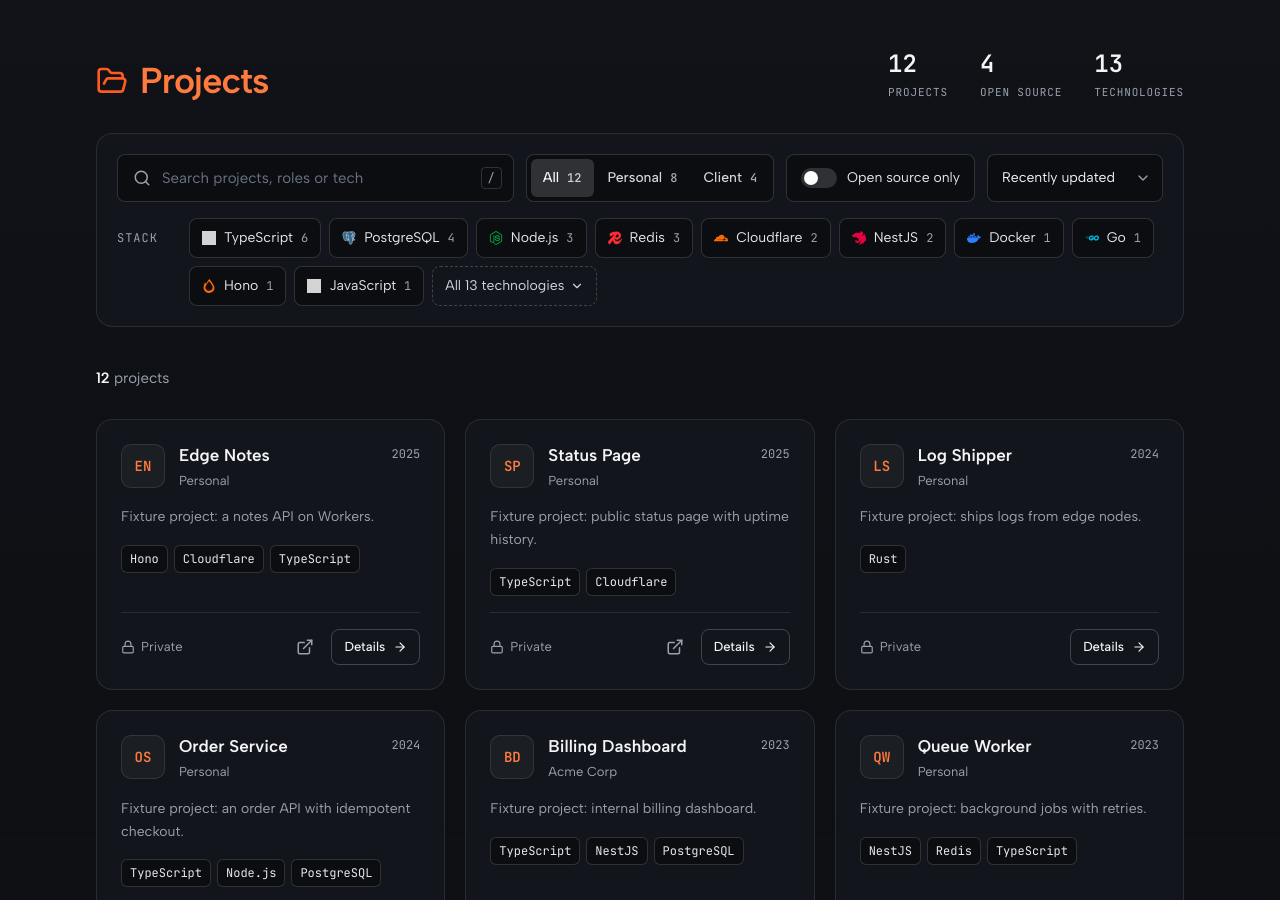
Test: ProjectsPage › opens project details and steps to the next project
What coordinates should you click on to do the following:
click the button "Details" below "Fixture project: a notes API on Workers."
I would click on:
 (376, 647)
Its box is x1=332 y1=629 x2=420 y2=665.
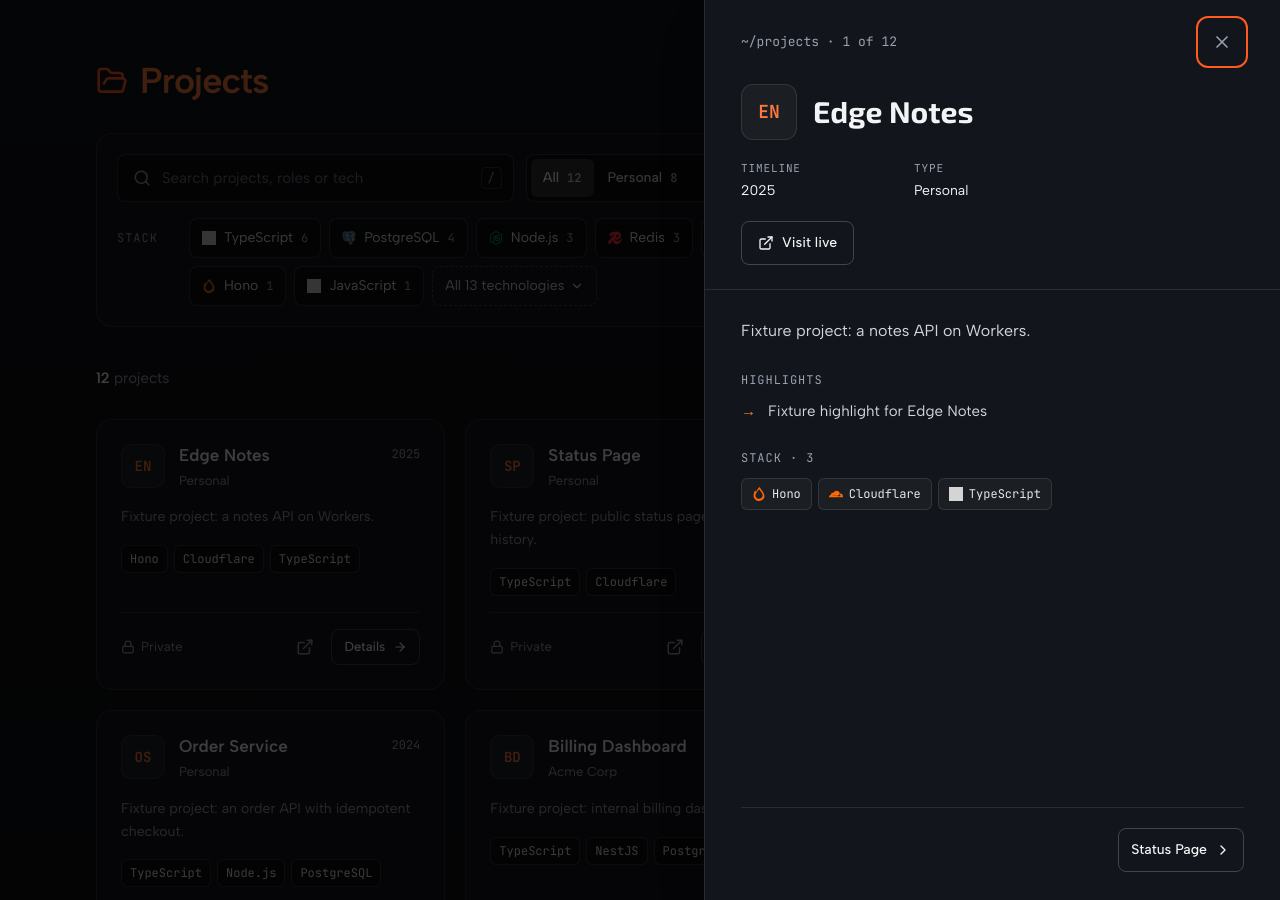
Expected: the heading "Edge Notes" is shown, x1=813 y1=93 x2=973 y2=131
Expected: the heading "Highlights" is shown, x1=741 y1=372 x2=823 y2=388
What coordinates should you click on to do the following:
click the button "Status Page"
I would click on:
 (1181, 850)
Its box is x1=1118 y1=828 x2=1244 y2=872.
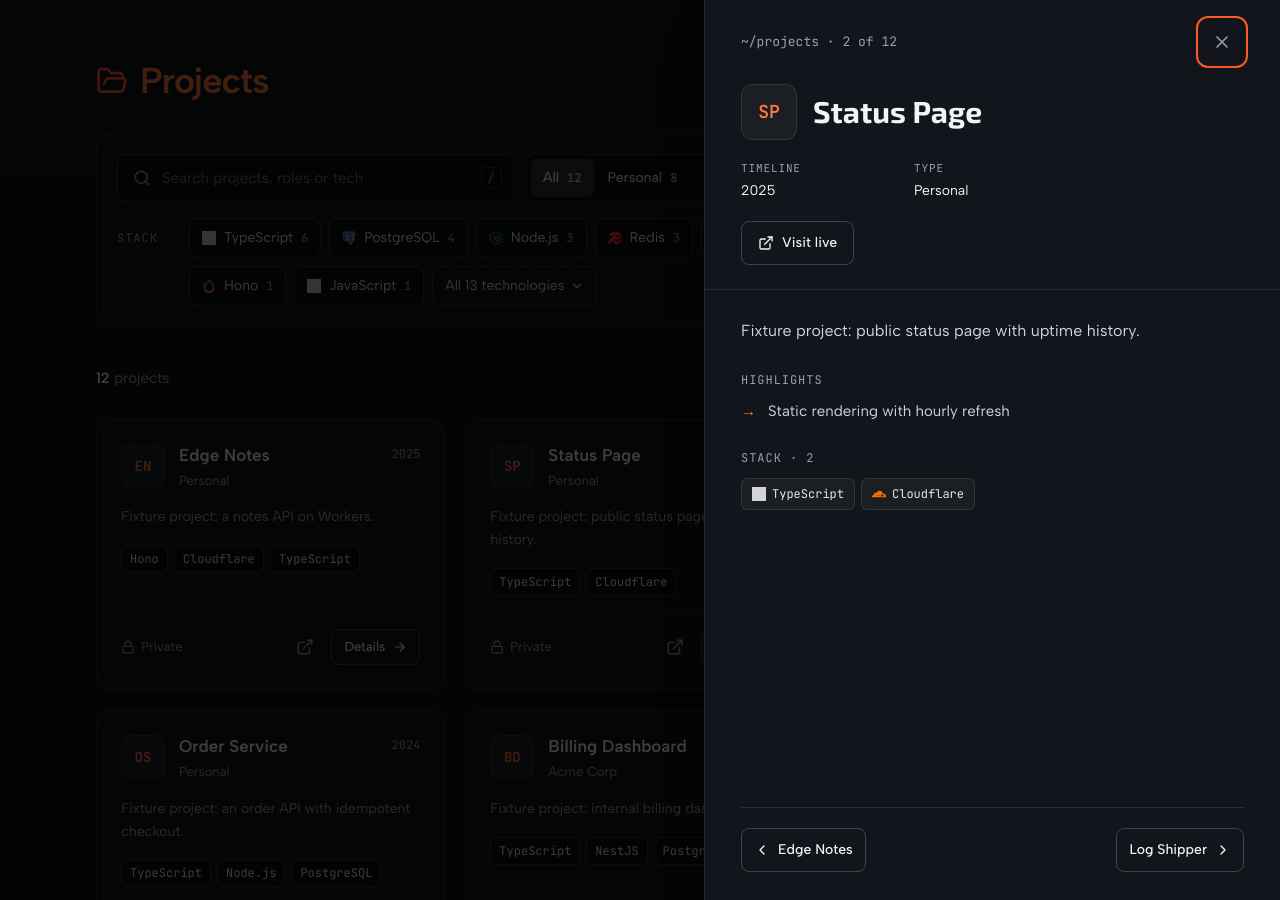
Expected: the heading "Status Page" is shown, x1=813 y1=93 x2=982 y2=131
